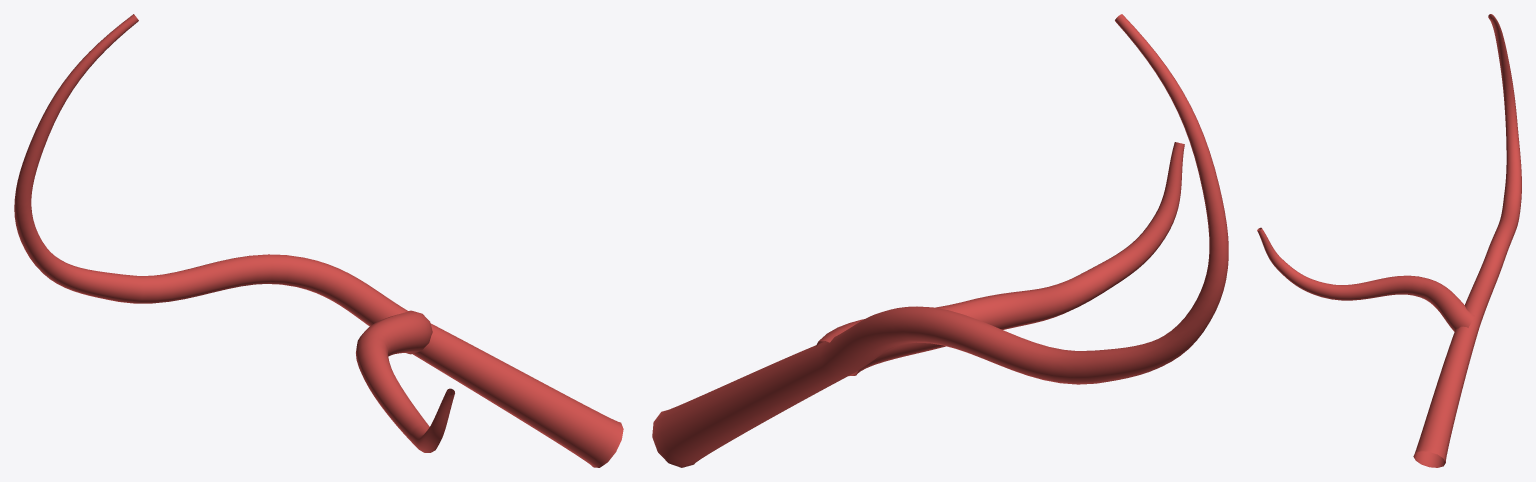
3 views of the same model, side by side, from view 1: azimuth 30°, elevation 25°; view 2: azimuth 150°, elevation 25°; view 3: azimuth 270°, elevation 25° (orthographic). The views are drawn at different scales.
Parts seen in each view (by area): view 1: 右侧旋股外侧动脉; view 2: 右侧旋股外侧动脉; view 3: 右侧旋股外侧动脉.
Part boxes in pixels (x1,y1,x2,y2): 右侧旋股外侧动脉: [14, 14, 623, 467]; 右侧旋股外侧动脉: [652, 14, 1228, 467]; 右侧旋股外侧动脉: [1257, 14, 1521, 467].
Bounding box in the file's own units: 0.1049 × 0.0956 × 0.0702.
